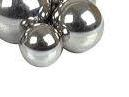ironball: (57, 0, 106, 54), (0, 0, 49, 48), (20, 24, 71, 66)
